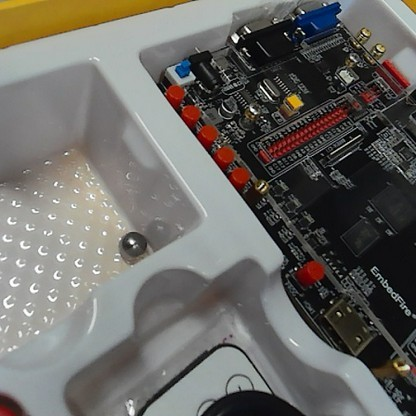ironball: (117, 228, 148, 260)
